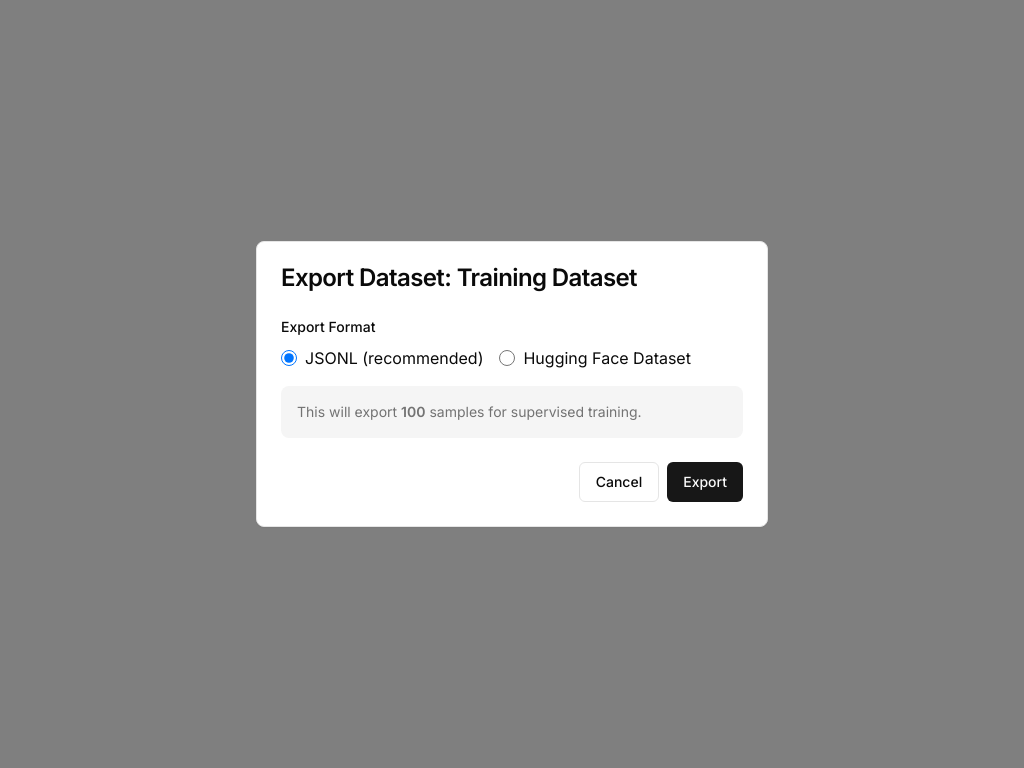
DatasetExportDialog › shows error when export fails
Click the button "Export" at (705, 482), box [667,462,743,502]
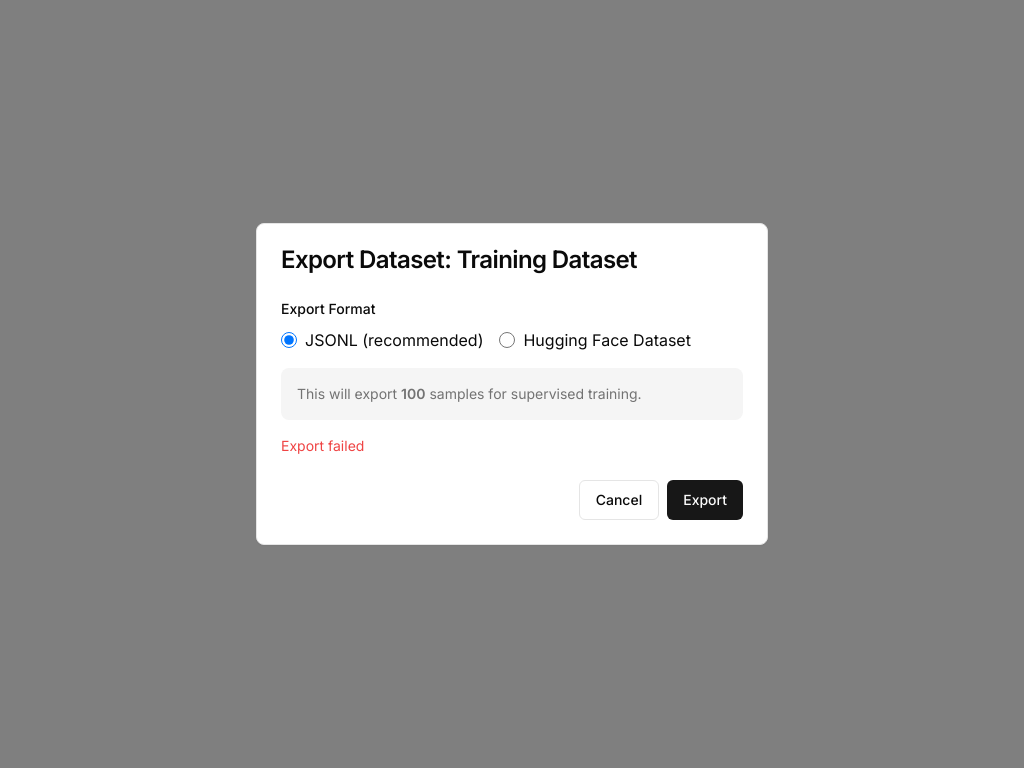
Expected: the text "Export failed" is shown, [281,437,364,454]
